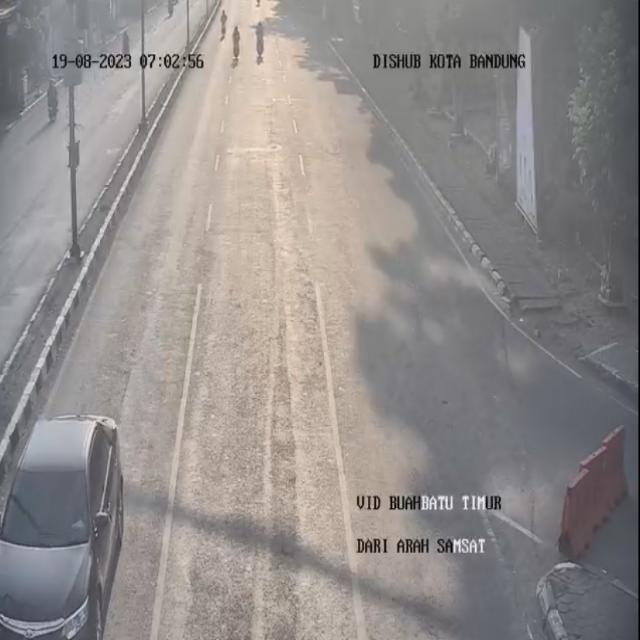cars: (0, 414, 128, 640)
